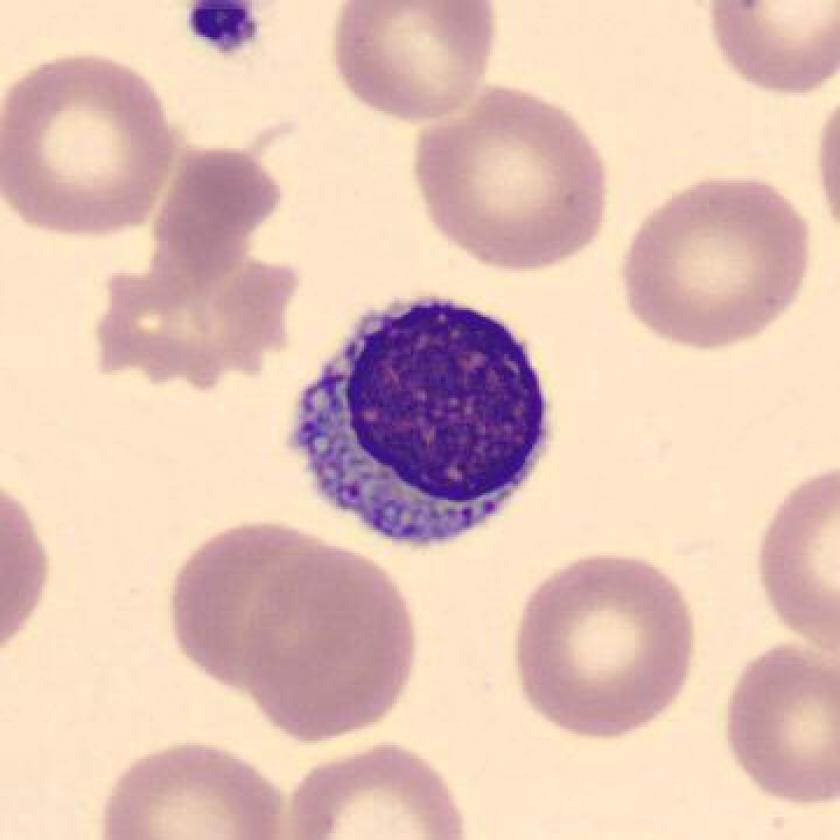lymphocyte: (286, 284, 566, 571)
